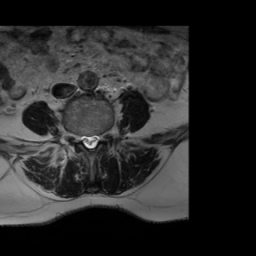CCS_stenosis: (87, 128, 93, 155)
LFS_normal: (100, 125, 107, 147)
LLS_normal: (93, 128, 100, 149)
RFS_normal: (72, 126, 80, 148)
RLS_normal: (80, 130, 87, 150)
